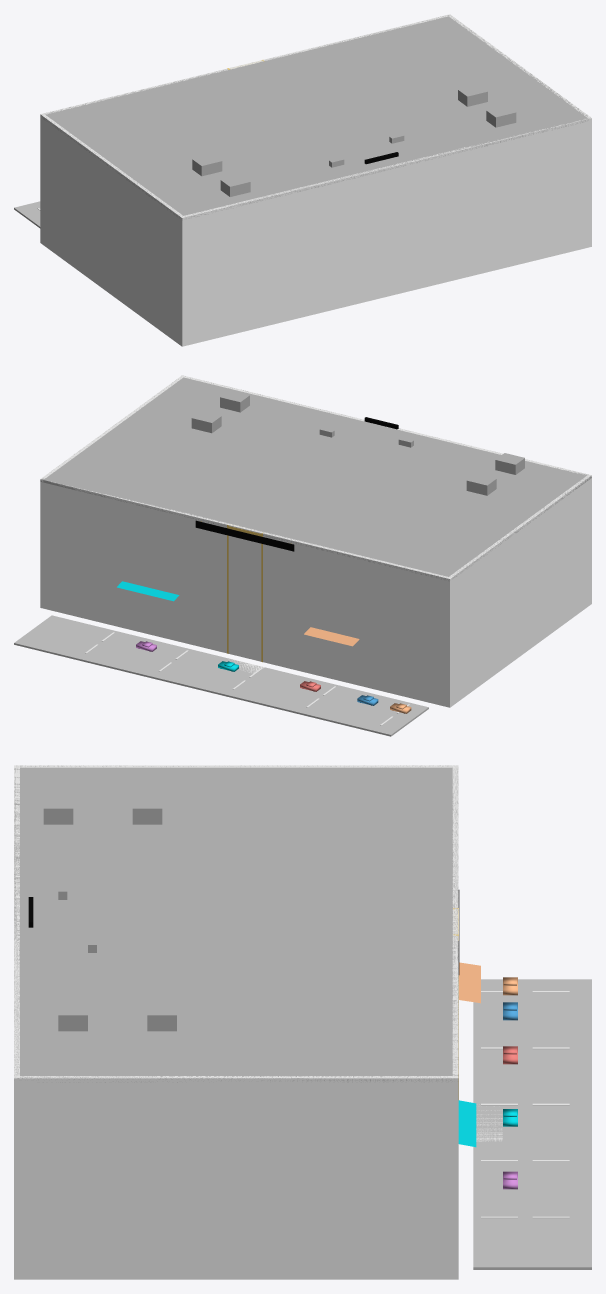
The model's file is Building_3_8.glb.
3 views of the same model, one above another, from view 1: azimuth 30°, elevation 25°; view 2: azimuth 150°, elevation 25°; view 3: azimuth 270°, elevation 25° (orthographic). The views are drawn at different scales.
Parts seen in each view (by area): view 1: RoofSlab, Back, Left, Front, Right, FloorDiv, AC_1, AC_2, AC_3, AC_4; view 2: RoofSlab, Front, Left, ParkingLot, FloorDiv, Back, Right, MallSignBG, AC_4, AC_3, AC_1, AC_2 (+2 smaller); view 3: RoofSlab, Right, ParkingLot, Front, Back, FloorDiv, Left, AC_1, AC_3, AC_2, AC_4, S4_Awning (+1 smaller).
Boxes of the visible parts, <box> form: RoofSlab: <box>40,15,590,220</box>; Back: <box>180,118,591,346</box>; Left: <box>40,113,185,346</box>; Front: <box>40,14,451,243</box>; Right: <box>448,15,591,247</box>; FloorDiv: <box>42,193,588,295</box>; AC_1: <box>220,175,250,196</box>; AC_2: <box>486,105,516,127</box>; AC_3: <box>192,154,222,176</box>; AC_4: <box>458,84,487,106</box>; RoofSlab: <box>40,375,591,580</box>; Front: <box>40,480,451,707</box>; Left: <box>447,474,591,705</box>; ParkingLot: <box>14,615,428,736</box>; FloorDiv: <box>40,552,591,656</box>; Back: <box>180,375,591,603</box>; Right: <box>40,375,184,606</box>; MallSignBG: <box>195,520,294,551</box>; AC_4: <box>191,411,221,433</box>; AC_3: <box>466,473,496,495</box>; AC_1: <box>495,453,524,474</box>; AC_2: <box>220,390,249,412</box>; RoofSlab: <box>14,765,458,1082</box>; Right: <box>14,1076,458,1279</box>; ParkingLot: <box>473,979,591,1269</box>; Front: <box>452,765,458,1279</box>; Back: <box>14,765,19,1279</box>; FloorDiv: <box>14,1198,458,1200</box>; Left: <box>14,765,457,767</box>; AC_1: <box>43,793,73,824</box>; AC_3: <box>132,793,162,824</box>; AC_2: <box>58,999,87,1031</box>; AC_4: <box>147,999,176,1031</box>; S4_Awning: <box>458,1100,476,1147</box>.
Size of the model in its own units: 5 by 1.64 by 3.9.
